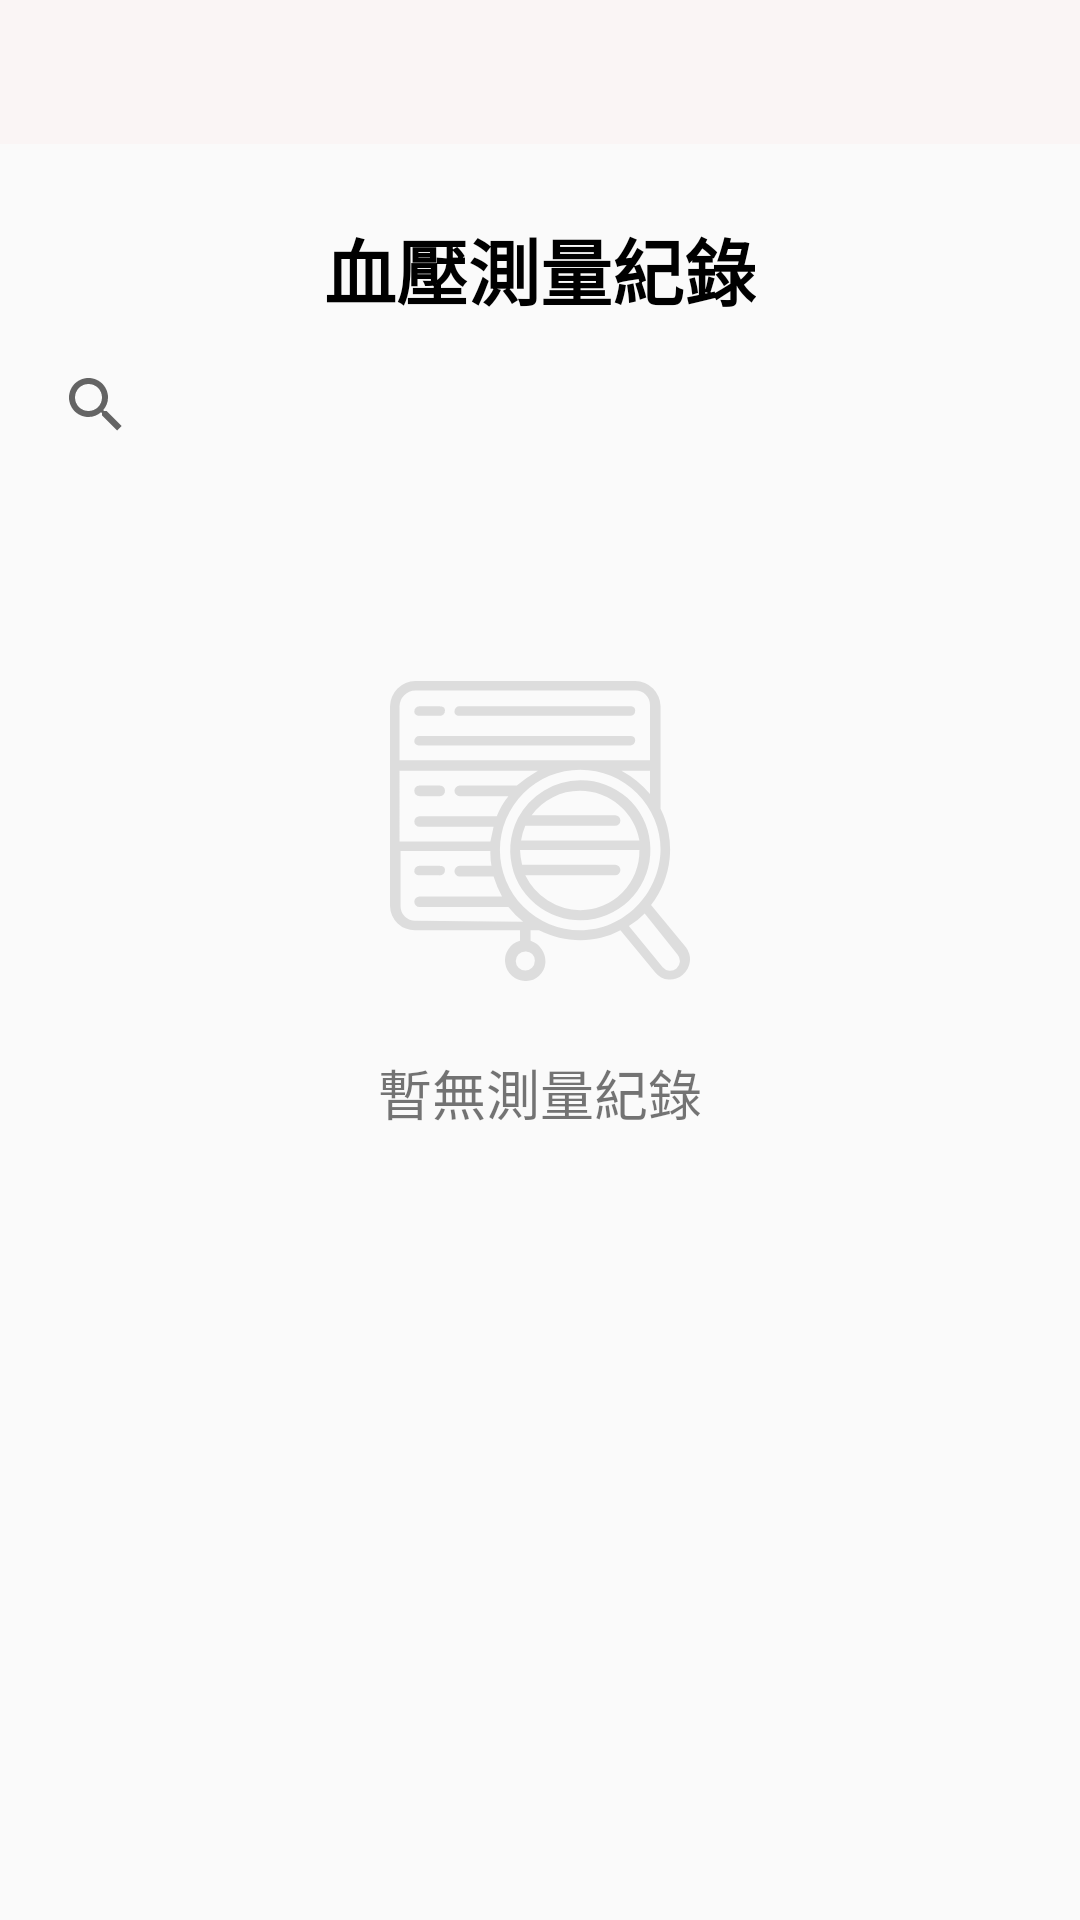

Icon bounding boxes for this 1080×1920 phone screenshot, format (x1, y1, x2, y2):
data searching: (390, 681, 690, 981)
